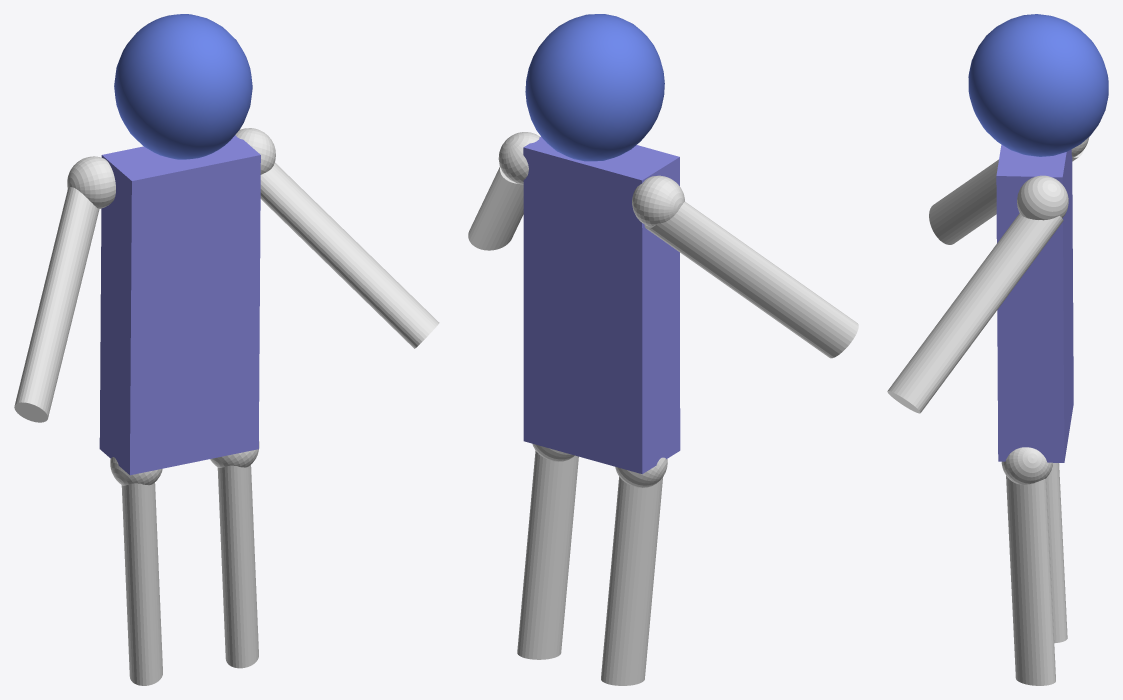
3 views of the same model, side by side, from view 1: azimuth 30°, elevation 25°; view 2: azimuth 150°, elevation 25°; view 3: azimuth 270°, elevation 25° (orthographic). The views are drawn at different scales.
Visible parts, largest first — view 1: Cube, Sphere.004, Cylinder, Cylinder.001, Cylinder.003, Cylinder.002, Sphere, Sphere.001, Sphere.003; view 2: Cube, Sphere.004, Cylinder.001, Cylinder.003, Cylinder.002, Cylinder, Sphere, Sphere.001, Sphere.003; view 3: Cube, Sphere.004, Cylinder, Cylinder.002, Cylinder.001, Cylinder.003, Sphere.001, Sphere.002.
Part boxes in pixels (x1,y1,x2,y2): Cube: (99,135,260,475); Sphere.004: (114,14,252,159); Cylinder: (260,162,439,348); Cylinder.001: (14,187,99,422); Cylinder.003: (121,482,162,685); Cylinder.002: (217,465,258,668); Sphere: (67,156,115,208); Sphere.001: (235,128,275,174); Sphere.003: (110,457,162,485); Cube: (523,136,680,474); Sphere.004: (525,14,664,161); Cylinder.001: (644,201,858,358); Cylinder.003: (601,477,662,685); Cylinder.002: (517,451,578,659); Cylinder: (468,167,523,250); Sphere: (632,175,684,226); Sphere.001: (498,132,539,184); Sphere.003: (615,457,667,487); Cube: (996,144,1073,462); Sphere.004: (968,14,1108,156); Cylinder: (887,213,1063,413); Cylinder.002: (1006,475,1055,685); Cylinder.001: (929,150,1083,244); Cylinder.003: (1046,463,1067,643); Sphere.001: (1017,175,1068,220); Sphere.002: (1001,447,1052,484).
Bounding box in the file's own units: 2.45 × 3.76 × 1.19.
